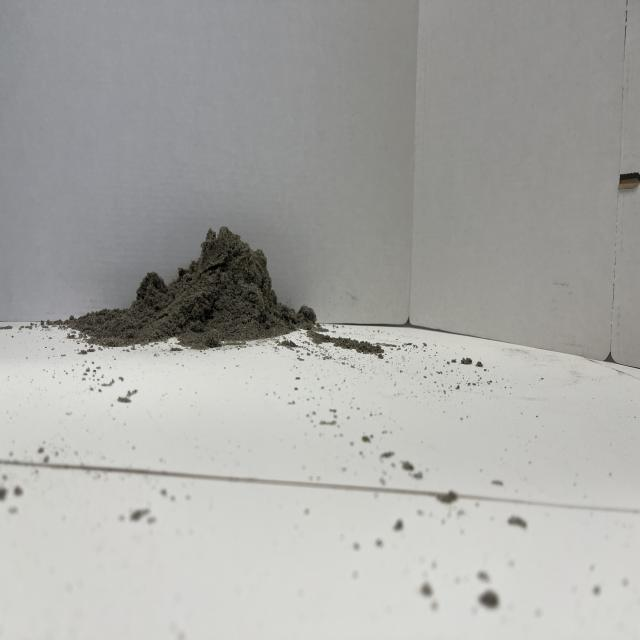sand: (59, 212, 338, 356)
